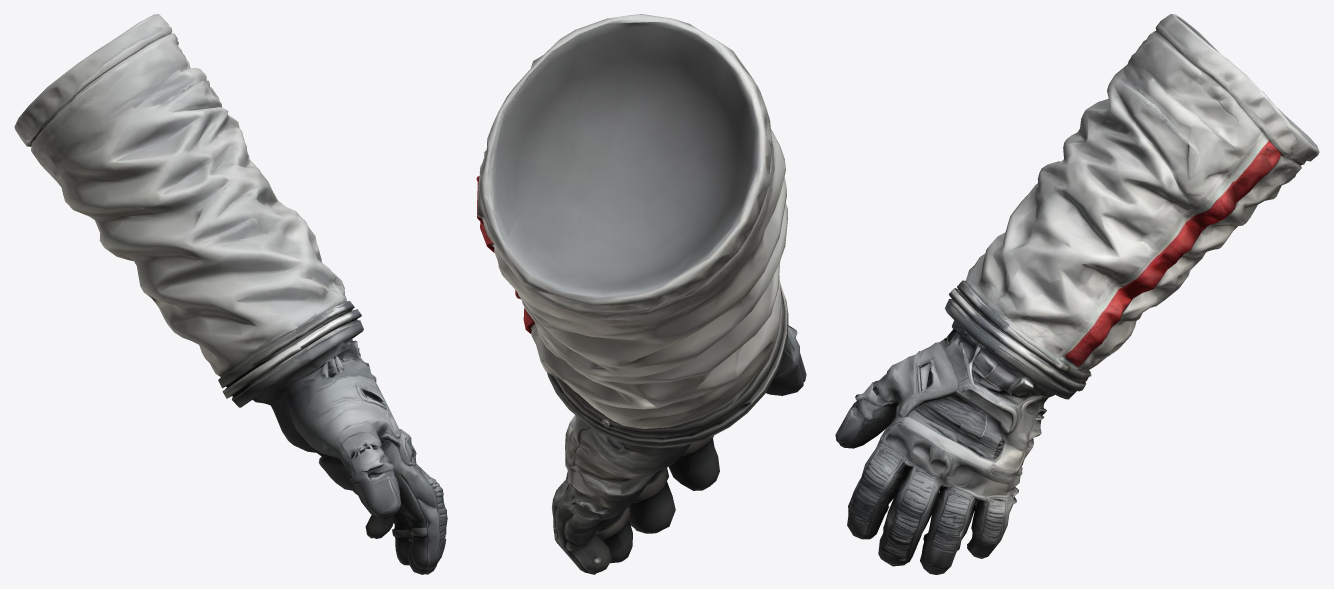
File: arm.glb
The picture shows the model from 3 angles, left to right: view 1: azimuth 30°, elevation 25°; view 2: azimuth 150°, elevation 25°; view 3: azimuth 270°, elevation 25°; orthographic projection. The views are drawn at different scales.
Parts seen in each view (by area): view 1: tripo_node_ed4d3e26; view 2: tripo_node_ed4d3e26; view 3: tripo_node_ed4d3e26.
Part boxes in pixels (box(x1,y1,x2,y2)): tripo_node_ed4d3e26: box(14, 14, 447, 574); tripo_node_ed4d3e26: box(476, 14, 806, 574); tripo_node_ed4d3e26: box(835, 14, 1319, 574).
Size of the model in its own units: 0.5606 by 1 by 0.9138.
Materials: 1 (1 with a texture image).
